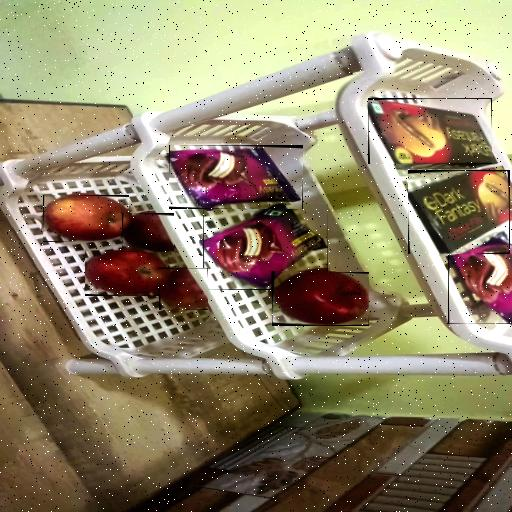Apple: (272, 272, 369, 326), (43, 195, 129, 242), (86, 250, 170, 296), (159, 268, 208, 310), (122, 213, 174, 252)
Choco Fills: (408, 170, 510, 254), (368, 98, 492, 164)
Choco Pie: (203, 204, 328, 290), (169, 145, 303, 209), (448, 237, 510, 324)
